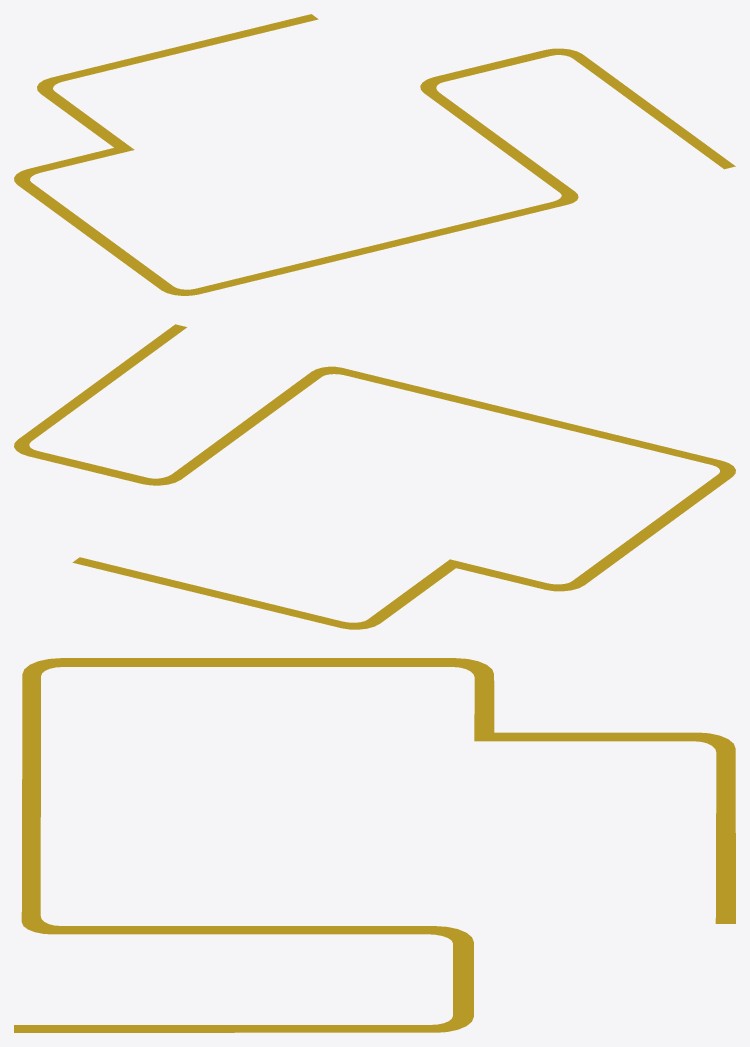
The model's file is guidao_UV.fbx.
3 renders of one model, top to bottom at view 1: azimuth 30°, elevation 25°; view 2: azimuth 150°, elevation 25°; view 3: azimuth 270°, elevation 25°, orthographic. The views are drawn at different scales.
Visible parts, largest first — view 1: guidao600; view 2: guidao600; view 3: guidao600.
Boxes of the visible parts, <box> form: guidao600: <box>14,14,735,295</box>; guidao600: <box>14,324,735,629</box>; guidao600: <box>14,658,735,1032</box>.
Bounding box in the file's own units: 452 × 1.61e-05 × 368.
